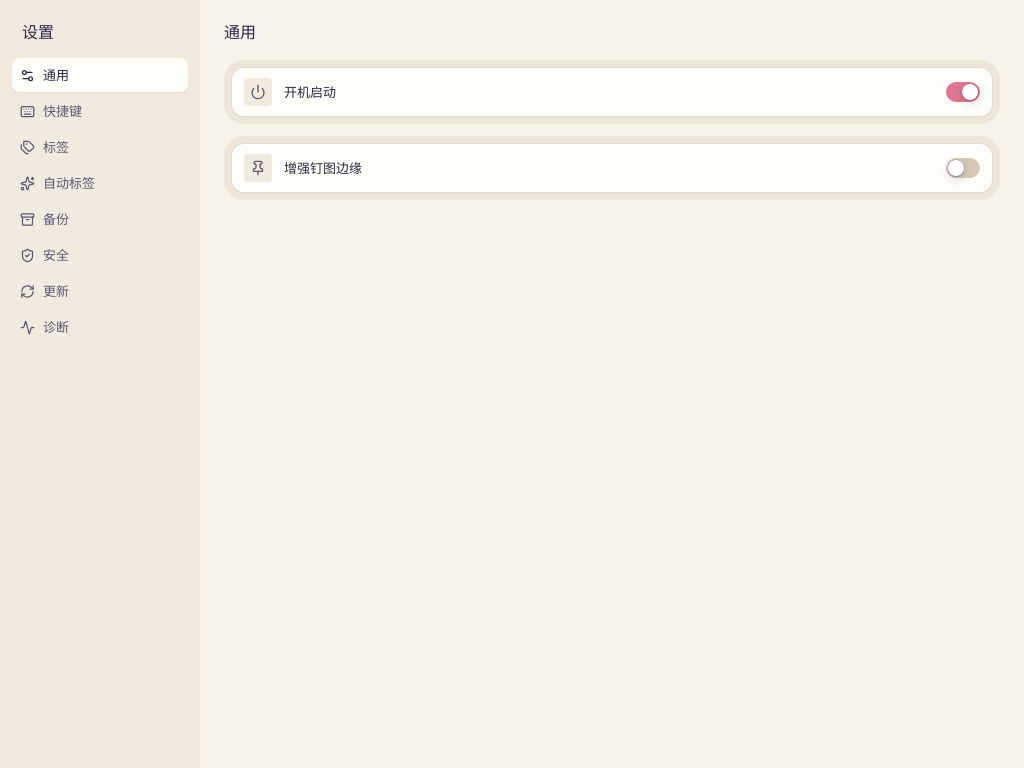
Test: 设置：分页 › 自动打标与模型包移到自动标签分页，通用分页不再有
Check: the switch named "开机启动" is shown, box [946, 82, 980, 102]
Click the tab "自动标签" at x=100, y=183, box [12, 166, 188, 200]
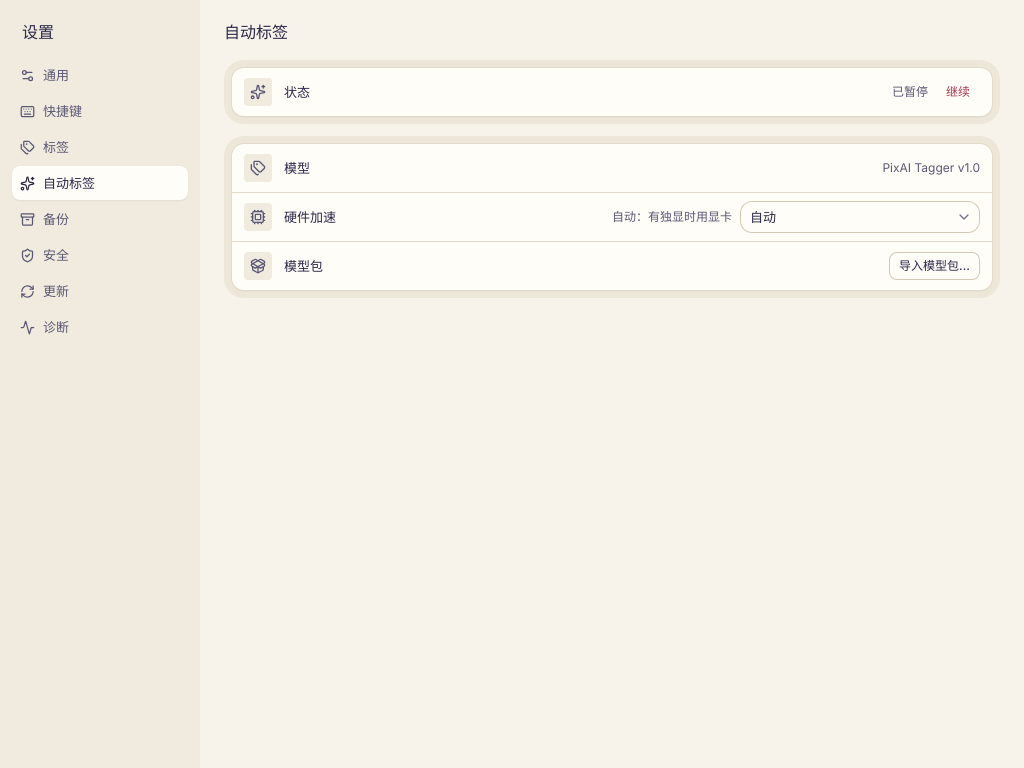
Check: the heading "自动标签" is shown, box [224, 22, 288, 42]
Check: the dropdown named "硬件加速" is shown, box [740, 201, 980, 233]
Check: the button "导入模型包…" is shown, box [889, 252, 980, 280]
